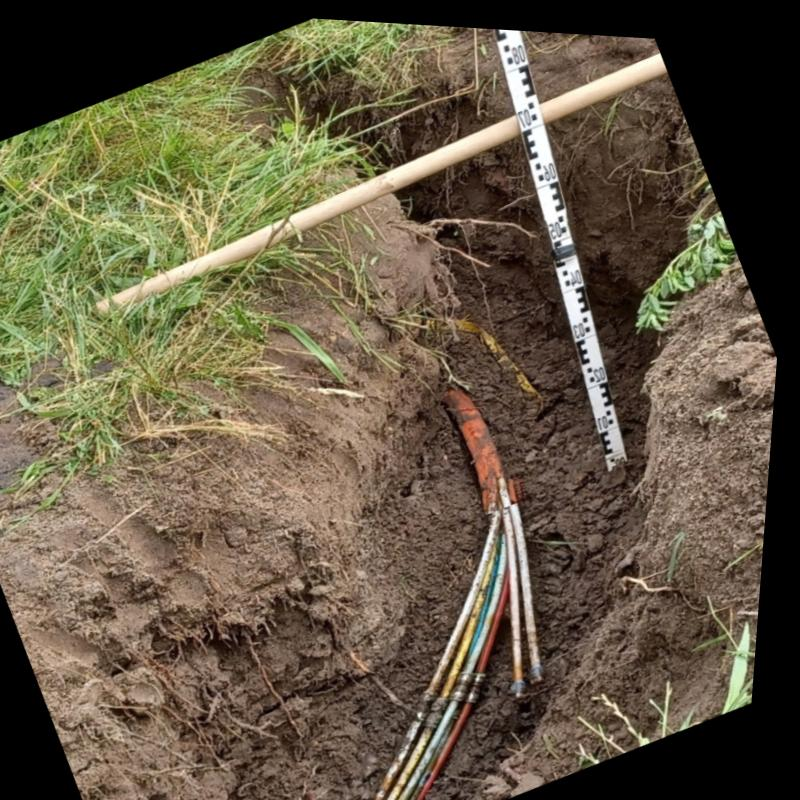Orang-Speednetrohrchen: (458, 389, 528, 508)
